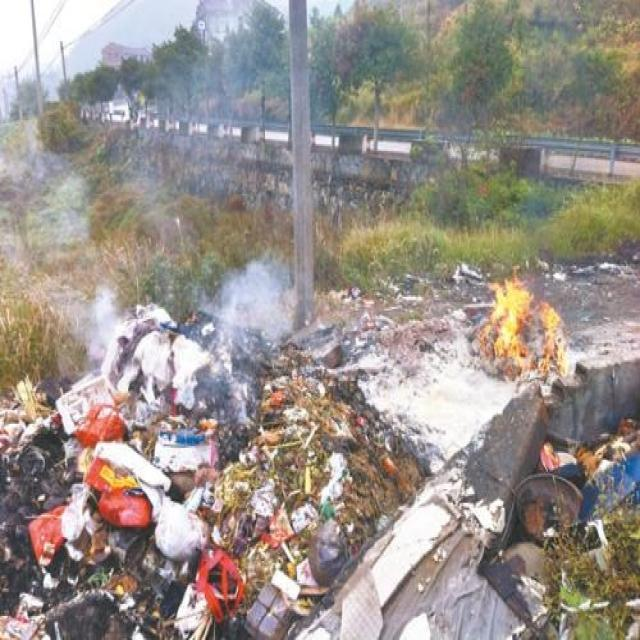Fire: (484, 272, 570, 380)
Smoke: (130, 0, 322, 245), (2, 68, 121, 364), (206, 248, 302, 412)
